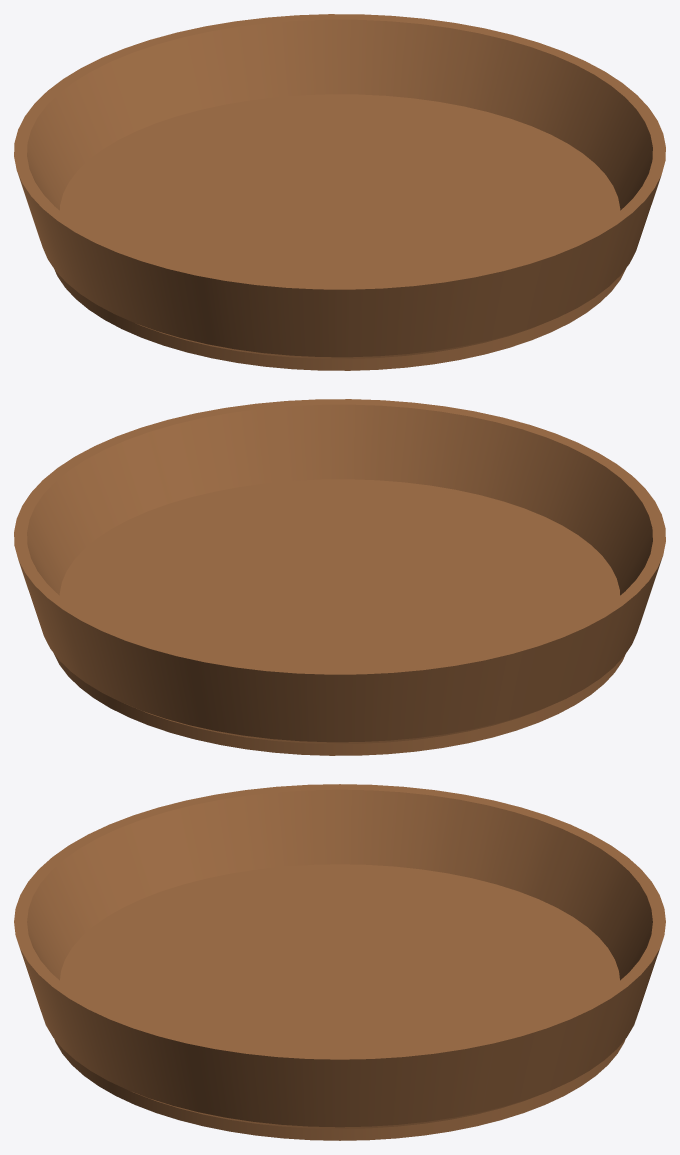
3 renders of one model, top to bottom at view 1: azimuth 30°, elevation 25°; view 2: azimuth 150°, elevation 25°; view 3: azimuth 270°, elevation 25°, orthographic.
Parts seen in each view (by area): view 1: tray_skin; view 2: tray_skin; view 3: tray_skin.
Boxes of the visible parts, x1=… form: tray_skin: x1=14, y1=14, x2=665, y2=370; tray_skin: x1=14, y1=399, x2=665, y2=755; tray_skin: x1=14, y1=784, x2=665, y2=1140.
Size of the model in its own units: 0.1 by 0.0163 by 0.1.
